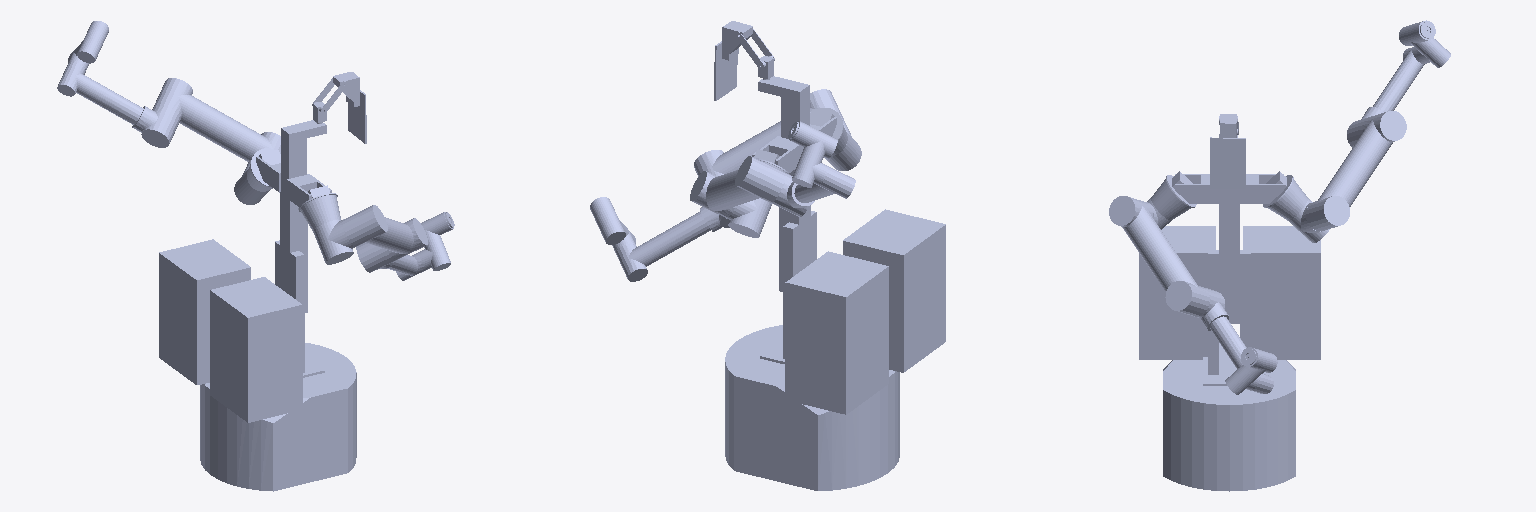
--- What the picture shows (computed from the rendered views, not written in the file) ---
3 views of the same robot in one strip: view 1: azimuth 30°, elevation 25°; view 2: azimuth 150°, elevation 25°; view 3: azimuth 270°, elevation 25° (orthographic).
Robot: Cholera — 21 links, 20 joints (14 revolute, 6 fixed); root link base_link; default pose: all joints at 0.
Links seen in each view (by area): view 1: base_link, left_upperarm_link, left_forearm_link, right_upperarm_link, head_neck2_link, head_base_link, right_forearm_link, right_shoulder_link, right_base_link, right_wrist1_link, left_wrist2_link, left_shoulder_link; view 2: base_link, left_upperarm_link, right_forearm_link, head_neck2_link, right_upperarm_link, left_forearm_link, head_base_link, left_shoulder_link, left_wrist1_link, right_wrist2_link, right_shoulder_link, left_wrist2_link; view 3: base_link, left_upperarm_link, right_upperarm_link, head_neck2_link, left_forearm_link, right_forearm_link, right_base_link, left_base_link, right_wrist1_link, left_wrist1_link, left_shoulder_link.
Boxes of the visible links, left/top/right/bottom form: base_link: left=159, top=148, right=356, bottom=491; left_upperarm_link: left=153, top=78, right=280, bottom=161; left_forearm_link: left=57, top=62, right=179, bottom=147; right_upperarm_link: left=342, top=205, right=427, bottom=259; head_neck2_link: left=312, top=72, right=366, bottom=143; head_base_link: left=281, top=120, right=326, bottom=178; right_forearm_link: left=356, top=243, right=427, bottom=280; right_shoulder_link: left=313, top=219, right=354, bottom=264; right_base_link: left=300, top=195, right=340, bottom=230; right_wrist1_link: left=419, top=239, right=450, bottom=270; left_wrist2_link: left=77, top=30, right=104, bottom=63; left_shoulder_link: left=234, top=161, right=269, bottom=204; base_link: left=725, top=108, right=945, bottom=490; left_upperarm_link: left=690, top=156, right=785, bottom=217; right_forearm_link: left=616, top=207, right=729, bottom=281; head_neck2_link: left=714, top=21, right=774, bottom=100; right_upperarm_link: left=694, top=89, right=844, bottom=176; left_forearm_link: left=771, top=166, right=855, bottom=216; head_base_link: left=758, top=76, right=809, bottom=138; left_shoulder_link: left=726, top=198, right=771, bottom=237; left_wrist1_link: left=792, top=151, right=827, bottom=187; right_wrist2_link: left=595, top=208, right=625, bottom=244; right_shoulder_link: left=824, top=121, right=861, bottom=170; left_wrist2_link: left=802, top=127, right=837, bottom=158; base_link: left=1139, top=171, right=1320, bottom=491; left_upperarm_link: left=1306, top=111, right=1406, bottom=230; right_upperarm_link: left=1109, top=196, right=1209, bottom=315; head_neck2_link: left=1210, top=114, right=1245, bottom=188; left_forearm_link: left=1347, top=47, right=1426, bottom=147; right_forearm_link: left=1194, top=287, right=1273, bottom=393; right_base_link: left=1151, top=179, right=1190, bottom=219; left_base_link: left=1268, top=179, right=1307, bottom=219; right_wrist1_link: left=1225, top=365, right=1258, bottom=394; left_wrist1_link: left=1417, top=38, right=1450, bottom=67; left_shoulder_link: left=1287, top=198, right=1329, bottom=242.
Size in the robot's own frame: 1.39 by 1.29 by 1.64 metres.
Meshes: 21 distinct files referenced, 21 mesh visuals loaded (21 binary STL).

robot.urdf — Cholera:
<?xml version="1.0" encoding="utf-8"?>
<!-- This URDF was automatically created by SolidWorks to URDF Exporter! Originally created by Stephen Brawner ([email redacted]) 
     Commit Version: 1.5.1-0-g916b5db  Build Version: 1.5.7152.31018
     For more information, please see http://wiki.ros.org/sw_urdf_exporter -->
<robot
  name="Cholera">
  <link
    name="base_link">
    <inertial>
      <origin
        xyz="-0.12713011286975 -5.73413981237447E-05 0.379646859128274"
        rpy="0 0 0" />
      <mass
        value="163.626380453613" />
      <inertia
        ixx="4.25096639842994"
        ixy="-0.000184077090973253"
        ixz="-0.0112541217774995"
        iyy="4.66101938385433"
        iyz="-5.17543392524605E-06"
        izz="4.66249209274685" />
    </inertial>
    <visual>
      <origin
        xyz="0 0 0"
        rpy="0 0 0" />
      <geometry>
        <mesh
          filename="TRINA/base_link.STL" />
      </geometry>
      <material
        name="">
        <color
          rgba="0.792156862745098 0.819607843137255 0.933333333333333 1" />
      </material>
    </visual>
    <collision>
      <origin
        xyz="0 0 0"
        rpy="0 0 0" />
      <geometry>
        <mesh
          filename="TRINA/base_link.STL" />
      </geometry>
    </collision>
  </link>
  <link
    name="left_base_link">
    <inertial>
      <origin
        xyz="6.66133814775094E-16 3.33066907387547E-16 0.045250016785834"
        rpy="0 0 0" />
      <mass
        value="1.39397162412901" />
      <inertia
        ixx="0.00271550342627118"
        ixy="7.04731412115578E-19"
        ixz="-5.42101086242752E-20"
        iyy="0.00271550342627118"
        iyz="3.79470760369927E-19"
        izz="0.00319199166031868" />
    </inertial>
    <visual>
      <origin
        xyz="0 0 0"
        rpy="0 0 0" />
      <geometry>
        <mesh
          filename="TRINA/left_base_link.STL" />
      </geometry>
      <material
        name="">
        <color
          rgba="0.792156862745098 0.819607843137255 0.933333333333333 1" />
      </material>
    </visual>
    <collision>
      <origin
        xyz="0 0 0"
        rpy="0 0 0" />
      <geometry>
        <mesh
          filename="TRINA/left_base_link.STL" />
      </geometry>
    </collision>
  </link>
  <joint
    name="base_left_base"
    type="fixed">
    <origin
      xyz="0.0199169066321389 0.184218468750741 1.1474483982822"
      rpy="2.52611294491941 0.523598775598306 -2.52566187507049" />
    <parent
      link="base_link" />
    <child
      link="left_base_link" />
    <axis
      xyz="0 0 0" />
  </joint>
  <link
    name="left_shoulder_link">
    <inertial>
      <origin
        xyz="1.12259138873583E-07 0.00937261703154313 0.0670267735608719"
        rpy="0 0 0" />
      <mass
        value="1.69867693696253" />
      <inertia
        ixx="0.00442864582515311"
        ixy="-4.01722462727797E-09"
        ixz="2.82097974970905E-10"
        iyy="0.00390531721787358"
        iyz="5.69611350561719E-05"
        izz="0.00356004264650292" />
    </inertial>
    <visual>
      <origin
        xyz="0 0 0"
        rpy="0 0 0" />
      <geometry>
        <mesh
          filename="TRINA/left_shoulder_link.STL" />
      </geometry>
      <material
        name="">
        <color
          rgba="0.792156862745098 0.819607843137255 0.933333333333333 1" />
      </material>
    </visual>
    <collision>
      <origin
        xyz="0 0 0"
        rpy="0 0 0" />
      <geometry>
        <mesh
          filename="TRINA/left_shoulder_link.STL" />
      </geometry>
    </collision>
  </link>
  <joint
    name="left_base_shoulder"
    type="revolute">
    <origin
      xyz="0 0 0.0990599999999997"
      rpy="0 0 1.5707963267949" />
    <parent
      link="left_base_link" />
    <child
      link="left_shoulder_link" />
    <axis
      xyz="0 0 1" />
    <limit
      lower="-6.28"
      upper="6.28"
      effort="150"
      velocity="3.33" />
  </joint>
  <link
    name="left_upperarm_link">
    <inertial>
      <origin
        xyz="1.35809636536699E-07 0.212500030104974 0.0653493983179745"
        rpy="0 0 0" />
      <mass
        value="6.31285273346304" />
      <inertia
        ixx="0.16990036349023"
        ixy="8.6117915546087E-09"
        ixz="3.01509572222386E-07"
        iyy="0.0127291856529223"
        iyz="-4.74484107603271E-10"
        izz="0.168139675767775" />
    </inertial>
    <visual>
      <origin
        xyz="0 0 0"
        rpy="0 0 0" />
      <geometry>
        <mesh
          filename="TRINA/left_upperarm_link.STL" />
      </geometry>
      <material
        name="">
        <color
          rgba="0.792156862745098 0.819607843137255 0.933333333333333 1" />
      </material>
    </visual>
    <collision>
      <origin
        xyz="0 0 0"
        rpy="0 0 0" />
      <geometry>
        <mesh
          filename="TRINA/left_upperarm_link.STL" />
      </geometry>
    </collision>
  </link>
  <joint
    name="left_shoulder_upperarm"
    type="revolute">
    <origin
      xyz="0 0.0743999999999998 0.063449"
      rpy="-1.5707963267949 -1.5707963267949 0" />
    <parent
      link="left_shoulder_link" />
    <child
      link="left_upperarm_link" />
    <axis
      xyz="0 0 1" />
    <limit
      lower="-6.28"
      upper="6.28"
      effort="150"
      velocity="3.33" />
  </joint>
  <link
    name="left_forearm_link">
    <inertial>
      <origin
        xyz="-7.21842751127966E-08 0.150537143611748 0.064167979985525"
        rpy="0 0 0" />
      <mass
        value="3.18874316726664" />
      <inertia
        ixx="0.0756021338285761"
        ixy="-1.63221275937316E-08"
        ixz="6.02985663136768E-10"
        iyy="0.00433469538941206"
        iyz="-0.00195295053988458"
        izz="0.0749130409802872" />
    </inertial>
    <visual>
      <origin
        xyz="0 0 0"
        rpy="0 0 0" />
      <geometry>
        <mesh
          filename="TRINA/left_forearm_link.STL" />
      </geometry>
      <material
        name="">
        <color
          rgba="0.792156862745098 0.819607843137255 0.933333333333333 1" />
      </material>
    </visual>
    <collision>
      <origin
        xyz="0 0 0"
        rpy="0 0 0" />
      <geometry>
        <mesh
          filename="TRINA/left_forearm_link.STL" />
      </geometry>
    </collision>
  </link>
  <joint
    name="left_upperarm_forearm"
    type="revolute">
    <origin
      xyz="0 0.425 0"
      rpy="3.14159265358979 0 -3.14159265358979" />
    <parent
      link="left_upperarm_link" />
    <child
      link="left_forearm_link" />
    <axis
      xyz="0 0 -1" />
    <limit
      lower="-6.28"
      upper="6.28"
      effort="28"
      velocity="3.33" />
  </joint>
  <link
    name="left_wrist1_link">
    <inertial>
      <origin
        xyz="-7.17789476745168E-08 -0.00387150310160234 0.0495746168733389"
        rpy="0 0 0" />
      <mass
        value="0.571932642971712" />
      <inertia
        ixx="0.000793661756662813"
        ixy="9.85054197228091E-11"
        ixz="-4.33405092928807E-10"
        iyy="0.000568425969946135"
        iyz="2.06484711595077E-05"
        izz="0.000647159561866029" />
    </inertial>
    <visual>
      <origin
        xyz="0 0 0"
        rpy="0 0 0" />
      <geometry>
        <mesh
          filename="TRINA/left_wrist1_link.STL" />
      </geometry>
      <material
        name="">
        <color
          rgba="0.792156862745098 0.819607843137255 0.933333333333333 1" />
      </material>
    </visual>
    <collision>
      <origin
        xyz="0 0 0"
        rpy="0 0 0" />
      <geometry>
        <mesh
          filename="TRINA/left_wrist1_link.STL" />
      </geometry>
    </collision>
  </link>
  <joint
    name="left_forearm_wrist1"
    type="revolute">
    <origin
      xyz="0 0.39225 0.0139499999999999"
      rpy="-3.14159265358979 0 1.5707963267949" />
    <parent
      link="left_forearm_link" />
    <child
      link="left_wrist1_link" />
    <axis
      xyz="0 0 1" />
    <limit
      lower="-6.28"
      upper="6.28"
      effort="28"
      velocity="3.33" />
  </joint>
  <link
    name="left_wrist2_link">
    <inertial>
      <origin
        xyz="8.23701840069191E-09 -0.00401809052430346 0.0461487178886334"
        rpy="0 0 0" />
      <mass
        value="0.547369091670538" />
      <inertia
        ixx="0.000728213850225436"
        ixy="-3.66202029502194E-11"
        ixz="6.99880365386549E-11"
        iyy="0.000503983487755793"
        iyz="1.59481868034705E-05"
        izz="0.00062888409092405" />
    </inertial>
    <visual>
      <origin
        xyz="0 0 0"
        rpy="0 0 0" />
      <geometry>
        <mesh
          filename="TRINA/left_wrist2_link.STL" />
      </geometry>
      <material
        name="">
        <color
          rgba="0.792156862745098 0.819607843137255 0.933333333333333 1" />
      </material>
    </visual>
    <collision>
      <origin
        xyz="0 0 0"
        rpy="0 0 0" />
      <geometry>
        <mesh
          filename="TRINA/left_wrist2_link.STL" />
      </geometry>
    </collision>
  </link>
  <joint
    name="left_wrist1_wrist2"
    type="revolute">
    <origin
      xyz="0 0.0463000000000004 0.0588999999999997"
      rpy="1.5707963267949 0 3.14159265358979" />
    <parent
      link="left_wrist1_link" />
    <child
      link="left_wrist2_link" />
    <axis
      xyz="0 0 1" />
    <limit
      lower="-6.28"
      upper="6.28"
      effort="28"
      velocity="3.33" />
  </joint>
  <link
    name="left_EE_link">
    <inertial>
      <origin
        xyz="0 -4.44089209850063E-16 0.0254445195252648"
        rpy="0 0 0" />
      <mass
        value="0.224027022443648" />
      <inertia
        ixx="0.00012658229794006"
        ixy="-3.3881317890172E-21"
        ixz="2.71050543121376E-20"
        iyy="0.00012658229794006"
        iyz="0"
        izz="0.000155143101918596" />
    </inertial>
    <visual>
      <origin
        xyz="0 0 0"
        rpy="0 0 0" />
      <geometry>
        <mesh
          filename="TRINA/left_EE_link.STL" />
      </geometry>
      <material
        name="">
        <color
          rgba="0.792156862745098 0.819607843137255 0.933333333333333 1" />
      </material>
    </visual>
    <collision>
      <origin
        xyz="0 0 0"
        rpy="0 0 0" />
      <geometry>
        <mesh
          filename="TRINA/left_EE_link.STL" />
      </geometry>
    </collision>
  </link>
  <joint
    name="left_wrist2_EE"
    type="revolute">
    <origin
      xyz="0 0.0463000000000002 0.0534000000000001"
      rpy="1.5707963267949 0 -3.14159265358979" />
    <parent
      link="left_wrist2_link" />
    <child
      link="left_EE_link" />
    <axis
      xyz="0 0 1" />
    <limit
      lower="-6.28"
      upper="6.28"
      effort="28"
      velocity="3.33" />
  </joint>
  <link
    name="left_tool_link">
    <inertial>
      <origin
        xyz="-0.000500000000000611 0 -7.7715611723761E-16"
        rpy="0 0 0" />
      <mass
        value="2.50000000000001E-05" />
      <inertia
        ixx="1.04166666666664E-10"
        ixy="1.59135332688424E-25"
        ixz="1.03397576569128E-25"
        iyy="5.41666666666658E-11"
        iyz="1.54611688713525E-24"
        izz="5.41666666666653E-11" />
    </inertial>
    <visual>
      <origin
        xyz="0 0 0"
        rpy="0 0 0" />
      <geometry>
        <mesh
          filename="TRINA/left_tool_link.STL" />
      </geometry>
      <material
        name="">
        <color
          rgba="0.792156862745098 0.819607843137255 0.933333333333333 1" />
      </material>
    </visual>
    <collision>
      <origin
        xyz="0 0 0"
        rpy="0 0 0" />
      <geometry>
        <mesh
          filename="TRINA/left_tool_link.STL" />
      </geometry>
    </collision>
  </link>
  <joint
    name="left_EE_tool"
    type="fixed">
    <origin
      xyz="0 0 0.0532999999999992"
      rpy="1.5707963267949 -1.5707963267949 0" />
    <parent
      link="left_EE_link" />
    <child
      link="left_tool_link" />
    <axis
      xyz="0 0 0" />
  </joint>
  <link
    name="right_base_link">
    <inertial>
      <origin
        xyz="2.22044604925031E-16 -2.4980018054066E-16 0.0452500167858338"
        rpy="0 0 0" />
      <mass
        value="1.39397162412901" />
      <inertia
        ixx="0.00271550342627118"
        ixy="-7.04731412115578E-19"
        ixz="5.96311194867027E-19"
        iyy="0.00271550342627118"
        iyz="-5.42101086242752E-20"
        izz="0.00319199166031868" />
    </inertial>
    <visual>
      <origin
        xyz="0 0 0"
        rpy="0 0 0" />
      <geometry>
        <mesh
          filename="TRINA/right_base_link.STL" />
      </geometry>
      <material
        name="">
        <color
          rgba="0.792156862745098 0.819607843137255 0.933333333333333 1" />
      </material>
    </visual>
    <collision>
      <origin
        xyz="0 0 0"
        rpy="0 0 0" />
      <geometry>
        <mesh
          filename="TRINA/right_base_link.STL" />
      </geometry>
    </collision>
  </link>
  <joint
    name="base_right_base"
    type="fixed">
    <origin
      xyz="0.0200830892985796 -0.184200425957397 1.1474483982822"
      rpy="-2.5261129449194 0.523598775598298 2.52656401476832" />
    <parent
      link="base_link" />
    <child
      link="right_base_link" />
    <axis
      xyz="0 0 0" />
  </joint>
  <link
    name="right_shoulder_link">
    <inertial>
      <origin
        xyz="-0.00154136079217018 0.00937262863101196 0.0670090673661068"
        rpy="0 0 0" />
      <mass
        value="1.69867710673471" />
      <inertia
        ixx="0.00442819106459179"
        ixy="-1.30490914044775E-06"
        ixz="1.99679554823115E-05"
        iyy="0.00390531761998801"
        iyz="5.6944639556471E-05"
        izz="0.00356049958613063" />
    </inertial>
    <visual>
      <origin
        xyz="0 0 0"
        rpy="0 0 0" />
      <geometry>
        <mesh
          filename="TRINA/right_shoulder_link.STL" />
      </geometry>
      <material
        name="">
        <color
          rgba="0.792156862745098 0.819607843137255 0.933333333333333 1" />
      </material>
    </visual>
    <collision>
      <origin
        xyz="0 0 0"
        rpy="0 0 0" />
      <geometry>
        <mesh
          filename="TRINA/right_shoulder_link.STL" />
      </geometry>
    </collision>
  </link>
  <joint
    name="right_base_shoulder"
    type="revolute">
    <origin
      xyz="0 0 0.0990599999999999"
      rpy="0 0.0229967266502195 1.5707963267949" />
    <parent
      link="right_base_link" />
    <child
      link="right_shoulder_link" />
    <axis
      xyz="0 0 1" />
    <limit
      lower="-6.28"
      upper="6.28"
      effort="150"
      velocity="3.33" />
  </joint>
  <link
    name="right_upperarm_link">
    <inertial>
      <origin
        xyz="-1.35809636203632E-07 0.212499969895026 0.0653493983179743"
        rpy="0 0 0" />
      <mass
        value="6.31285273346304" />
      <inertia
        ixx="0.16990036349023"
        ixy="8.61179159060421E-09"
        ixz="-3.01509572201569E-07"
        iyy="0.0127291856529223"
        iyz="4.74484085268706E-10"
        izz="0.168139675767776" />
    </inertial>
    <visual>
      <origin
        xyz="0 0 0"
        rpy="0 0 0" />
      <geometry>
        <mesh
          filename="TRINA/right_upperarm_link.STL" />
      </geometry>
      <material
        name="">
        <color
          rgba="0.792156862745098 0.819607843137255 0.933333333333333 1" />
      </material>
    </visual>
    <collision>
      <origin
        xyz="0 0 0"
        rpy="0 0 0" />
      <geometry>
        <mesh
          filename="TRINA/right_upperarm_link.STL" />
      </geometry>
    </collision>
  </link>
  <joint
    name="right_shoulder_upperarm"
    type="revolute">
    <origin
      xyz="-0.0014589907035592 0.0744000000000004 0.0634322232554314"
      rpy="1.57079632679488 -1.54779960014467 -3.14159265358977" />
    <parent
      link="right_shoulder_link" />
    <child
      link="right_upperarm_link" />
    <axis
      xyz="0 0 1" />
    <limit
      lower="-6.28"
      upper="6.28"
      effort="150"
      velocity="3.33" />
  </joint>
  <link
    name="right_forearm_link">
    <inertial>
      <origin
        xyz="-6.51721676625527E-08 0.150537142769539 0.064167927096821"
        rpy="0 0 0" />
      <mass
        value="3.18874319308628" />
      <inertia
        ixx="0.0756018379787176"
        ixy="-9.18789419601445E-08"
        ixz="-2.64058856100369E-08"
        iyy="0.00433460732058588"
        iyz="-0.00195295576164619"
        izz="0.0749126055109011" />
    </inertial>
    <visual>
      <origin
        xyz="0 0 0"
        rpy="0 0 0" />
      <geometry>
        <mesh
          filename="TRINA/right_forearm_link.STL" />
      </geometry>
      <material
        name="">
        <color
          rgba="0.792156862745098 0.819607843137255 0.933333333333333 1" />
      </material>
    </visual>
    <collision>
      <origin
        xyz="0 0 0"
        rpy="0 0 0" />
      <geometry>
        <mesh
          filename="TRINA/right_forearm_link.STL" />
      </geometry>
    </collision>
  </link>
  <joint
    name="right_upperarm_forearm"
    type="revolute">
    <origin
      xyz="0 0.425 0"
      rpy="3.14159265358979 0 3.14159265358979" />
    <parent
      link="right_upperarm_link" />
    <child
      link="right_forearm_link" />
    <axis
      xyz="0 0 -1" />
    <limit
      lower="-6.28"
      upper="6.28"
      effort="28"
      velocity="3.33" />
  </joint>
  <link
    name="right_wrist1_link">
    <inertial>
      <origin
        xyz="6.77764219192412E-08 -0.00387151440579381 0.0495746126741422"
        rpy="0 0 0" />
      <mass
        value="0.571932663446469" />
      <inertia
        ixx="0.0007936622201079"
        ixy="-1.36261282232585E-10"
        ixz="5.74541059557765E-10"
        iyy="0.000568425667847512"
        iyz="2.06482942693129E-05"
        izz="0.000647159597311378" />
    </inertial>
    <visual>
      <origin
        xyz="0 0 0"
        rpy="0 0 0" />
      <geometry>
        <mesh
          filename="TRINA/right_wrist1_link.STL" />
      </geometry>
      <material
        name="">
        <color
          rgba="0.792156862745098 0.819607843137255 0.933333333333333 1" />
      </material>
    </visual>
    <collision>
      <origin
        xyz="0 0 0"
        rpy="0 0 0" />
      <geometry>
        <mesh
          filename="TRINA/right_wrist1_link.STL" />
      </geometry>
    </collision>
  </link>
  <joint
    name="right_forearm_wrist1"
    type="revolute">
    <origin
      xyz="0 0.39225 0.01395"
      rpy="-3.1416 0 1.5708" />
    <parent
      link="right_forearm_link" />
    <child
      link="right_wrist1_link" />
    <axis
      xyz="0 0 1" />
    <limit
      lower="-6.28"
      upper="6.28"
      effort="28"
      velocity="3.33" />
  </joint>
  <link
    name="right_wrist2_link">
    <inertial>
      <origin
        xyz="-8.4909E-09 -0.0040181 0.046149"
        rpy="0 0 0" />
      <mass
        value="0.54737" />
      <inertia
        ixx="0.00072821"
        ixy="-3.1544E-12"
        ixz="-4.4591E-11"
        iyy="0.00050398"
        iyz="1.5948E-05"
        izz="0.00062888" />
    </inertial>
    <visual>
      <origin
        xyz="0 0 0"
        rpy="0 0 0" />
      <geometry>
        <mesh
          filename="TRINA/right_wrist2_link.STL" />
      </geometry>
      <material
        name="">
        <color
          rgba="0.79216 0.81961 0.93333 1" />
      </material>
    </visual>
    <collision>
      <origin
        xyz="0 0 0"
        rpy="0 0 0" />
      <geometry>
        <mesh
          filename="TRINA/right_wrist2_link.STL" />
      </geometry>
    </collision>
  </link>
  <joint
    name="right_wrist1_wrist2"
    type="revolute">
    <origin
      xyz="0 0.0462999999999996 0.0589"
      rpy="1.5707963267949 0 -3.14159265358979" />
    <parent
      link="right_wrist1_link" />
    <child
      link="right_wrist2_link" />
    <axis
      xyz="0 0 1" />
    <limit
      lower="-6.28"
      upper="6.28"
      effort="28"
      velocity="3.33" />
  </joint>
  <link
    name="right_EE_link">
    <inertial>
      <origin
        xyz="-4.44089209850063E-16 -2.22044604925031E-16 0.0254445195252647"
        rpy="0 0 0" />
      <mass
        value="0.224027022443649" />
      <inertia
        ixx="0.00012658229794006"
        ixy="1.35525271560688E-20"
        ixz="-3.72694496791892E-20"
        iyy="0.00012658229794006"
        iyz="-6.7762635780344E-21"
        izz="0.000155143101918596" />
    </inertial>
    <visual>
      <origin
        xyz="0 0 0"
        rpy="0 0 0" />
      <geometry>
        <mesh
          filename="TRINA/right_EE_link.STL" />
      </geometry>
      <material
        name="">
        <color
          rgba="0.792156862745098 0.819607843137255 0.933333333333333 1" />
      </material>
    </visual>
    <collision>
      <origin
        xyz="0 0 0"
        rpy="0 0 0" />
      <geometry>
        <mesh
          filename="TRINA/right_EE_link.STL" />
      </geometry>
    </collision>
  </link>
  <joint
    name="right_wrist2_EE"
    type="revolute">
    <origin
      xyz="0 0.0463 0.0534"
      rpy="1.5708 -0.022997 3.1416" />
    <parent
      link="right_wrist2_link" />
    <child
      link="right_EE_link" />
    <axis
      xyz="0 0 1" />
    <limit
      lower="-6.28"
      upper="6.28"
      effort="28"
      velocity="3.33" />
  </joint>
  <link
    name="right_tool_link">
    <inertial>
      <origin
        xyz="-0.00050000000000161 2.22044604925031E-16 0"
        rpy="0 0 0" />
      <mass
        value="2.49999999999999E-05" />
      <inertia
        ixx="1.04166666666663E-10"
        ixy="-2.05179566004364E-25"
        ixz="-9.37040537657727E-26"
        iyy="5.41666666666652E-11"
        iyz="-8.33642961088598E-25"
        izz="5.41666666666645E-11" />
    </inertial>
    <visual>
      <origin
        xyz="0 0 0"
        rpy="0 0 0" />
      <geometry>
        <mesh
          filename="TRINA/right_tool_link.STL" />
      </geometry>
      <material
        name="">
        <color
          rgba="0.792156862745098 0.819607843137255 0.933333333333333 1" />
      </material>
    </visual>
    <collision>
      <origin
        xyz="0 0 0"
        rpy="0 0 0" />
      <geometry>
        <mesh
          filename="TRINA/right_tool_link.STL" />
      </geometry>
    </collision>
  </link>
  <joint
    name="right_EE_tool"
    type="fixed">
    <origin
      xyz="0 0 0.0533000000000007"
      rpy="1.54779960014468 -1.5707963267949 0" />
    <parent
      link="right_EE_link" />
    <child
      link="right_tool_link" />
    <axis
      xyz="0 0 0" />
  </joint>
  <link
    name="head_base_link">
    <inertial>
      <origin
        xyz="0.053446 -1.1102E-15 0.10867"
        rpy="0 0 0" />
      <mass
        value="1.1679" />
      <inertia
        ixx="0.0043329"
        ixy="-1.4219E-19"
        ixz="-0.0011316"
        iyy="0.0057322"
        iyz="-4.4046E-19"
        izz="0.0022475" />
    </inertial>
    <visual>
      <origin
        xyz="0 0 0"
        rpy="0 0 0" />
      <geometry>
        <mesh
          filename="TRINA/head_base_link.STL" />
      </geometry>
      <material
        name="">
        <color
          rgba="0.79216 0.81961 0.93333 1" />
      </material>
    </visual>
    <collision>
      <origin
        xyz="0 0 0"
        rpy="0 0 0" />
      <geometry>
        <mesh
          filename="TRINA/head_base_link.STL" />
      </geometry>
    </collision>
  </link>
  <joint
    name="base_head_base"
    type="fixed">
    <origin
      xyz="-0.02 0 1.1981"
      rpy="0 0 0.00045107" />
    <parent
      link="base_link" />
    <child
      link="head_base_link" />
    <axis
      xyz="0 0 0" />
  </joint>
  <link
    name="head_neck1_link">
    <inertial>
      <origin
        xyz="1.1657E-15 -1.1657E-15 0.045094"
        rpy="0 0 0" />
      <mass
        value="0.11711" />
      <inertia
        ixx="6.4146E-05"
        ixy="-2.9944E-07"
        ixz="8.3932E-21"
        iyy="5.6657E-05"
        iyz="-3.8064E-20"
        izz="3.6841E-05" />
    </inertial>
    <visual>
      <origin
        xyz="0 0 0"
        rpy="0 0 0" />
      <geometry>
        <mesh
          filename="TRINA/head_neck1_link.STL" />
      </geometry>
      <material
        name="">
        <color
          rgba="0.79216 0.81961 0.93333 1" />
      </material>
    </visual>
    <collision>
      <origin
        xyz="0 0 0"
        rpy="0 0 0" />
      <geometry>
        <mesh
          filename="TRINA/head_neck1_link.STL" />
      </geometry>
    </collision>
  </link>
  <joint
    name="head_base_neck1"
    type="revolute">
    <origin
      xyz="0.1533 0 0.189"
      rpy="0 0 3.1415926" />
    <parent
      link="head_base_link" />
    <child
      link="head_neck1_link" />
    <axis
      xyz="0 0 -1" />
    <limit
      lower="-1.57"
      upper="1.57"
      effort="1"
      velocity="1" />
  </joint>
  <link
    name="head_neck2_link">
    <inertial>
      <origin
        xyz="0.022161 0.13411 -1.2768E-15"
        rpy="0 0 0" />
      <mass
        value="0.67574" />
      <inertia
        ixx="0.0009367"
        ixy="0.00075814"
        ixz="-1.7788E-18"
        iyy="0.00362"
        iyz="2.4395E-19"
        izz="0.0035907" />
    </inertial>
    <visual>
      <origin
        xyz="0 0 0"
        rpy="0 0 0" />
      <geometry>
        <mesh
          filename="TRINA/head_neck2_link.STL" />
      </geometry>
      <material
        name="">
        <color
          rgba="0.79216 0.81961 0.93333 1" />
      </material>
    </visual>
    <collision>
      <origin
        xyz="0 0 0"
        rpy="0 0 0" />
      <geometry>
        <mesh
          filename="TRINA/head_neck2_link.STL" />
      </geometry>
    </collision>
  </link>
  <joint
    name="head_neck1_neck2"
    type="revolute">
    <origin
      xyz="0 0 0.0628"
      rpy="1.5309 -1.5708 0" />
    <parent
      link="head_neck1_link" />
    <child
      link="head_neck2_link" />
    <axis
      xyz="0 0 1" />
    <limit
      lower="-1.57"
      upper="0.785"
      effort="1"
      velocity="1" />
  </joint>
  <link
    name="neck_face_link">
    <inertial>
      <origin
        xyz="-0.0005 0 2.2204E-16"
        rpy="0 0 0" />
      <mass
        value="2.5E-05" />
      <inertia
        ixx="1.0417E-10"
        ixy="1.6257E-25"
        ixz="1.8956E-25"
        iyy="5.4167E-11"
        iyz="7.8619E-25"
        izz="5.4167E-11" />
    </inertial>
    <visual>
      <origin
        xyz="0 0 0"
        rpy="0 0 0" />
      <geometry>
        <mesh
          filename="TRINA/neck_face_link.STL" />
      </geometry>
      <material
        name="">
        <color
          rgba="0.79216 0.81961 0.93333 1" />
      </material>
    </visual>
    <collision>
      <origin
        xyz="0 0 0"
        rpy="0 0 0" />
      <geometry>
        <mesh
          filename="TRINA/neck_face_link.STL" />
      </geometry>
    </collision>
  </link>
  <joint
    name="nect_link2_face"
    type="fixed">
    <origin
      xyz="0.045436 0.16544 0"
      rpy="1.5708 0 1.558" />
    <parent
      link="head_neck2_link" />
    <child
      link="neck_face_link" />
    <axis
      xyz="0 0 0" />
  </joint>


<klampt>
    <!-- left gripper Robotiq140 -->
    <mount link = 'left_tool_link' file = "robotiq_140.rob" transform = "0 0 1 0 1 0 -1 0 0  0 0 0" prefix="left_gripper"/>
    <noselfcollision group1="left_gripper:base_link left_gripper:right_inner_knuckle left_gripper:right_outer_knuckle left_gripper:right_outer_finger left_gripper:right_inner_finger  left_gripper:right_inner_finger_pad left_gripper:left_inner_knuckle left_gripper:left_outer_knuckle  left_gripper:left_outer_finger left_gripper:left_inner_finger  left_gripper:left_inner_finger_pad" group2="left_EE_link left_tool_link left_wrist2_link left_wrist1_link"/>
    
    <!-- right gripper Robotiq140 -->
    <mount link = 'right_tool_link' file = "robotiq_140.rob" transform = "0 0 1 0 1 0 -1 0 0  0 0 0" prefix="right_gripper"/>
    <noselfcollision group1="right_gripper:base_link right_gripper:right_inner_knuckle right_gripper:right_outer_knuckle right_gripper:right_outer_finger right_gripper:right_inner_finger  right_gripper:right_inner_finger_pad right_gripper:left_inner_knuckle right_gripper:left_outer_knuckle  right_gripper:left_outer_finger right_gripper:left_inner_finger  right_gripper:left_inner_finger_pad" group2="right_EE_link right_tool_link right_wrist2_link right_wrist1_link"/>
    
    <noselfcollision group1="left_base_link" group2="right_base_link right_shoulder_link right_upperarm_link"/>
    <noselfcollision group1="left_base_link" group2="left_upperarm_link"/>
    <noselfcollision group1="left_shoulder_link" group2="right_shoulder_link"/>
    <noselfcollision group1="left_wrist2_link" group2="left_forearm_link left_tool_link"/>
    <noselfcollision pairs="left_EE_link left_wrist1_link"/>
    <noselfcollision group1="right_base_link" group2="left_shoulder_link left_upperarm_link"/>
    <noselfcollision group1="right_base_link" group2="right_upperarm_link"/>
    <noselfcollision group1="right_wrist2_link" group2="right_forearm_link left_tool_link"/>
    <noselfcollision pairs="right_EE_link right_wrist1_link"/>
    <noselfcollision pairs="left_tool_link right_tool_link"/>
    <noselfcollision group1="left_tool_link right_tool_link" group2="base_link left_base_link left_shoulder_link left_upperarm_link left_forearm_link left_wrist1_link left_wrist2_link left_EE_link right_base_link right_shoulder_link right_upperarm_link right_forearm_link right_wrist1_link right_wrist2_link right_EE_link"/>
    
    <noselfcollision group1="base_link" group2="head_base_link head_neck1_link head_neck2_link neck_face_link"/>
    <noselfcollision group1="base_link" group2="left_shoulder_link right_shoulder_link"/>
    <noselfcollision group1="head_base_link" group2="head_neck2_link neck_face_link"/>
    <noselfcollision group1="head_neck1_link" group2="neck_face_link"/>


</klampt>

</robot>
